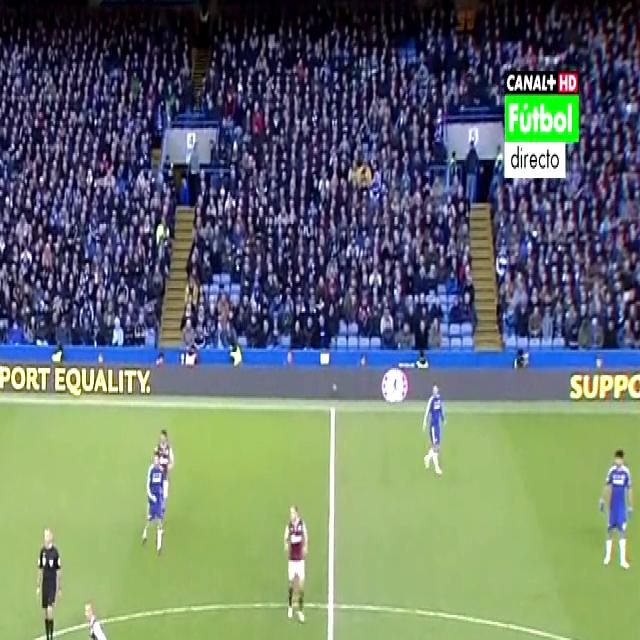referee: (32, 515, 70, 640)
soccer-player: (597, 439, 640, 583), (131, 435, 171, 568), (276, 498, 314, 637), (418, 371, 450, 483), (149, 418, 176, 500), (76, 595, 115, 640)
